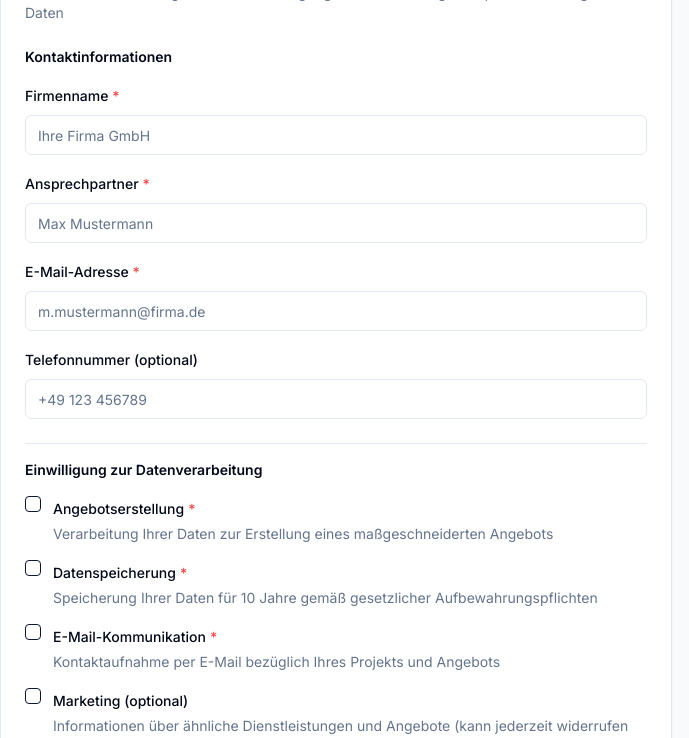
Test: ConsentForm › Form Validation › validates required company name
Click the checkbox next to "Angebotserstellung". click: click(33, 504)
box: [25,496,41,512]
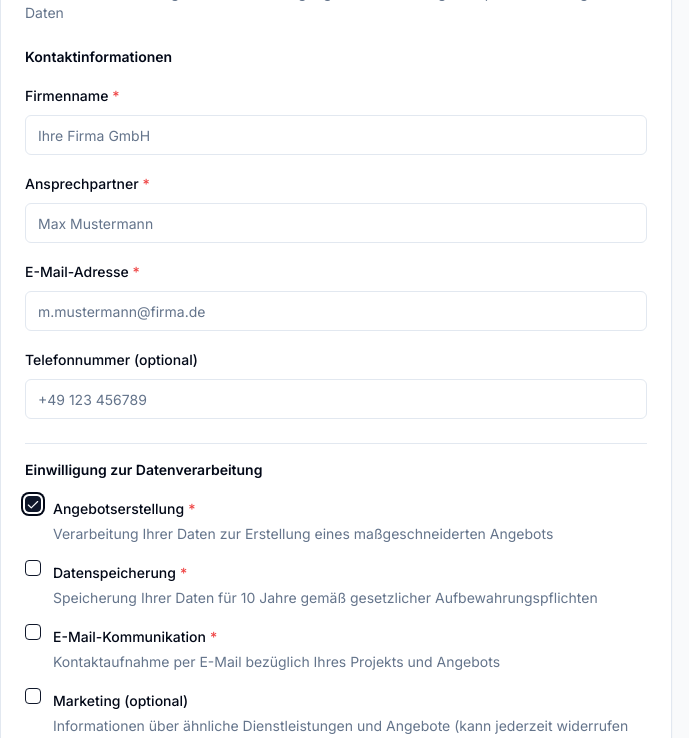
Click the checkbox next to "Datenspeicherung". click: click(33, 568)
box: [25,560,41,576]
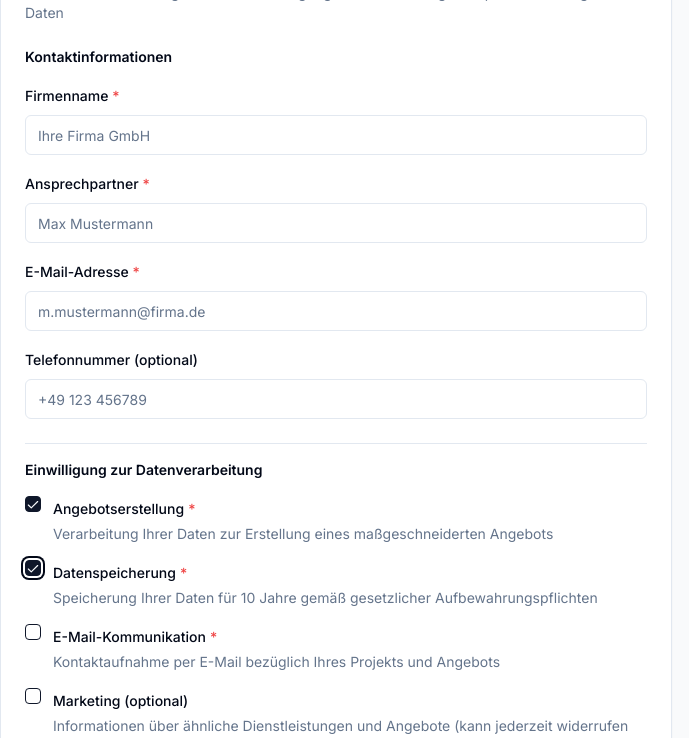
Click the checkbox next to "E-Mail-Kommunikation". click: click(33, 632)
box: [25,624,41,640]
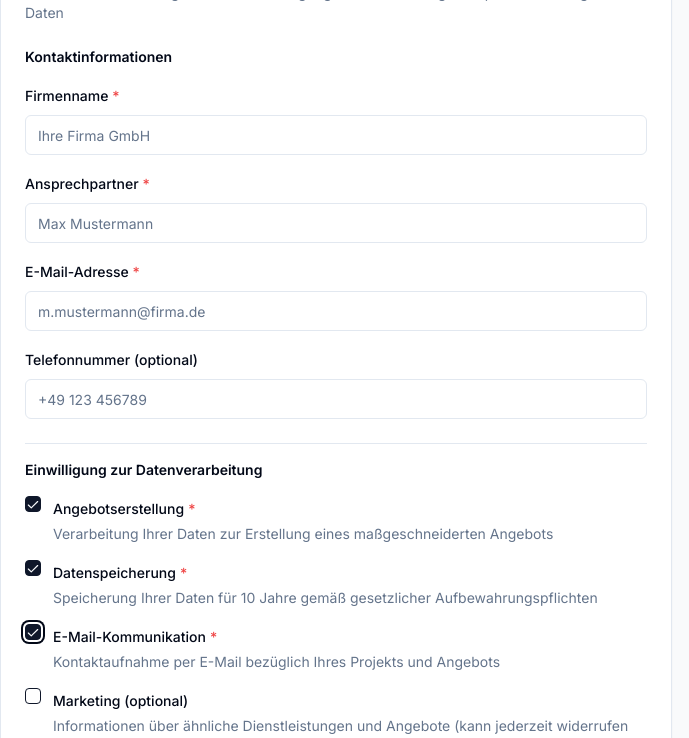
Click the checkbox next to "Marketing (optional)". click: click(33, 696)
box: [25,688,41,704]
(page scrolled)
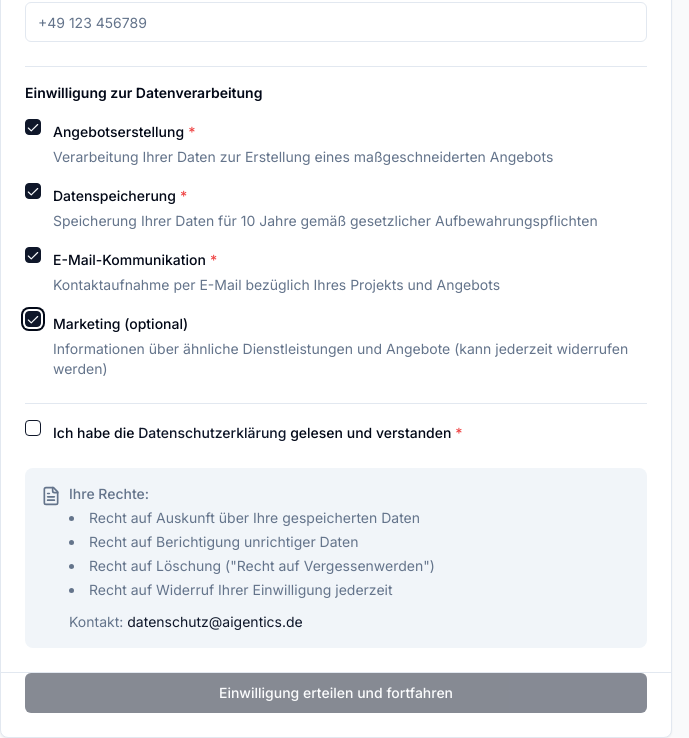
Click the checkbox next to "Ich habe die". click: click(33, 428)
box: [25,420,41,436]
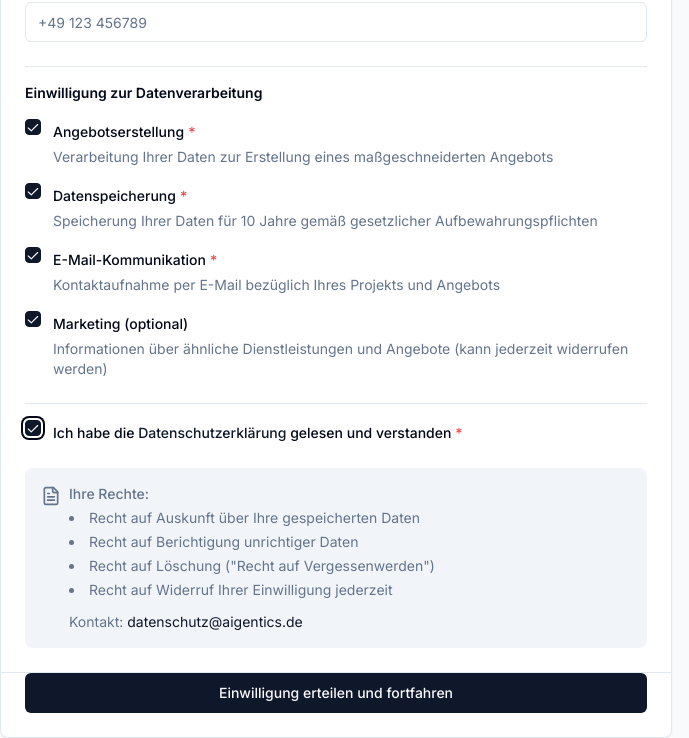
Click the button "Einwilligung erteilen und fortfahren". click: click(336, 693)
box: [25,673,647,713]
(page scrolled)
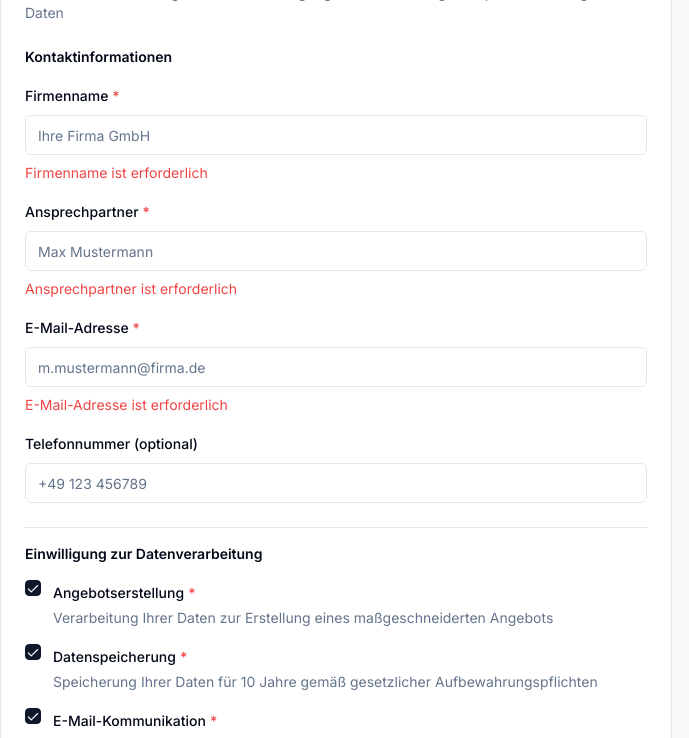
Expected: the text "Firmenname ist erforderlich" is shown, [25,164,208,181]
